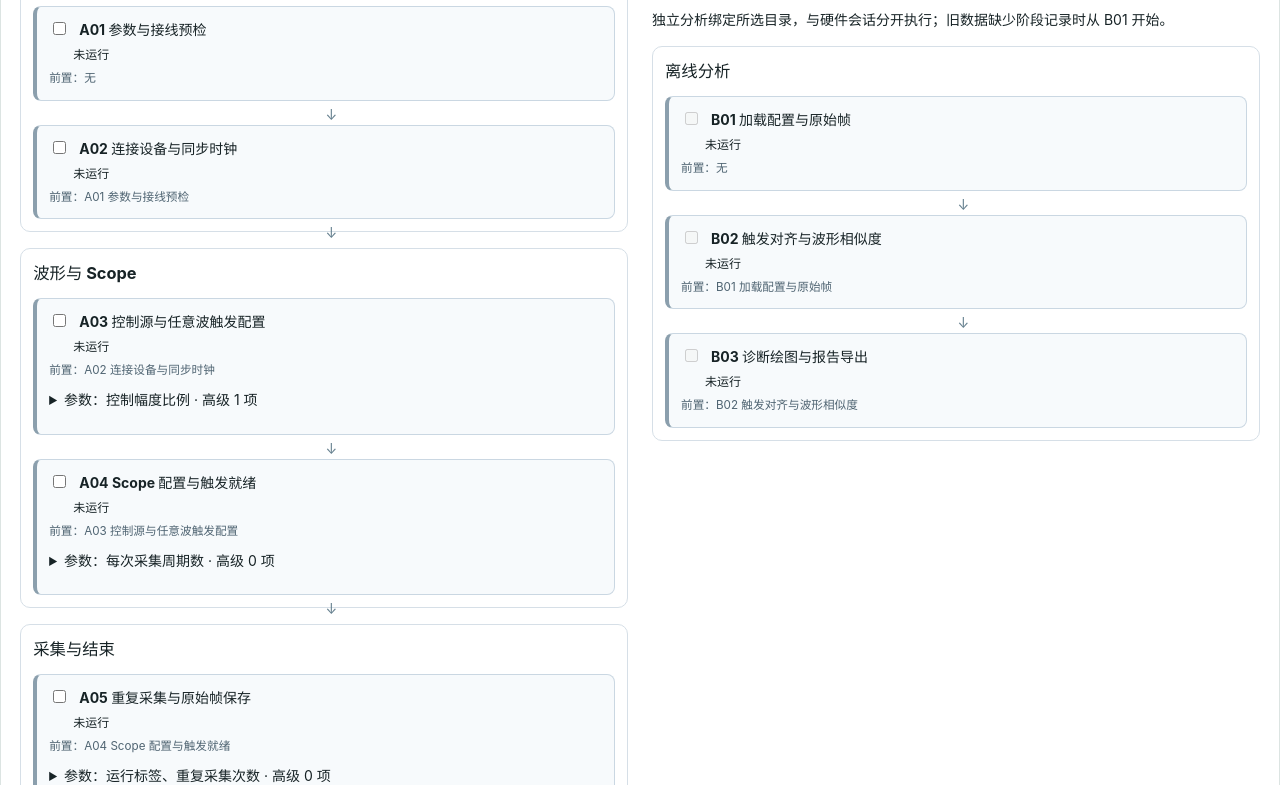
Scenario: 历史分析只用目录状态，保存默认值仍保存下一次实验与布局
The width and height of the screenshot is (1280, 785).
(page scrolled)
Click the heading "参数：控制幅度比例 · 高级 1 项" at (161, 400), box [64,391,258,408]
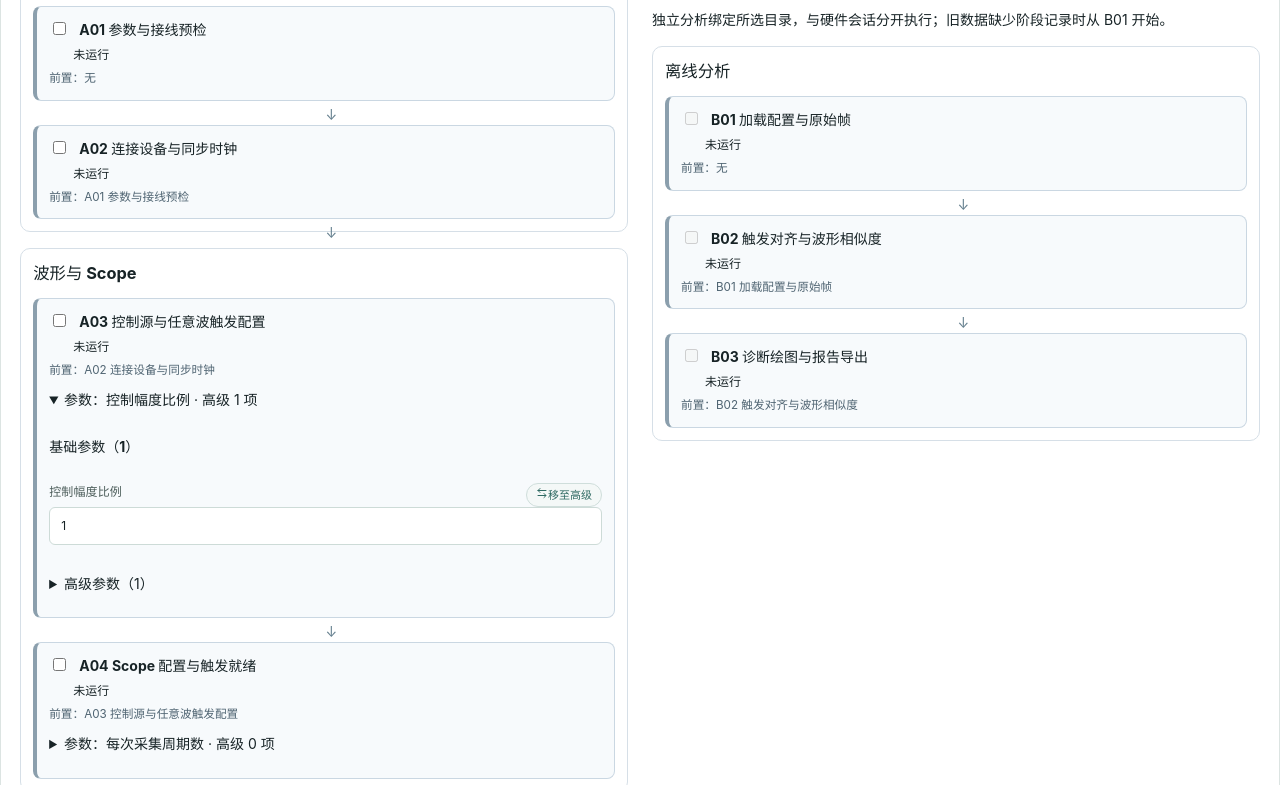
Replace the text in the number field labelled "控制幅度比例" with ".9" at (326, 526), box [49,506,602,544]
(page scrolled)
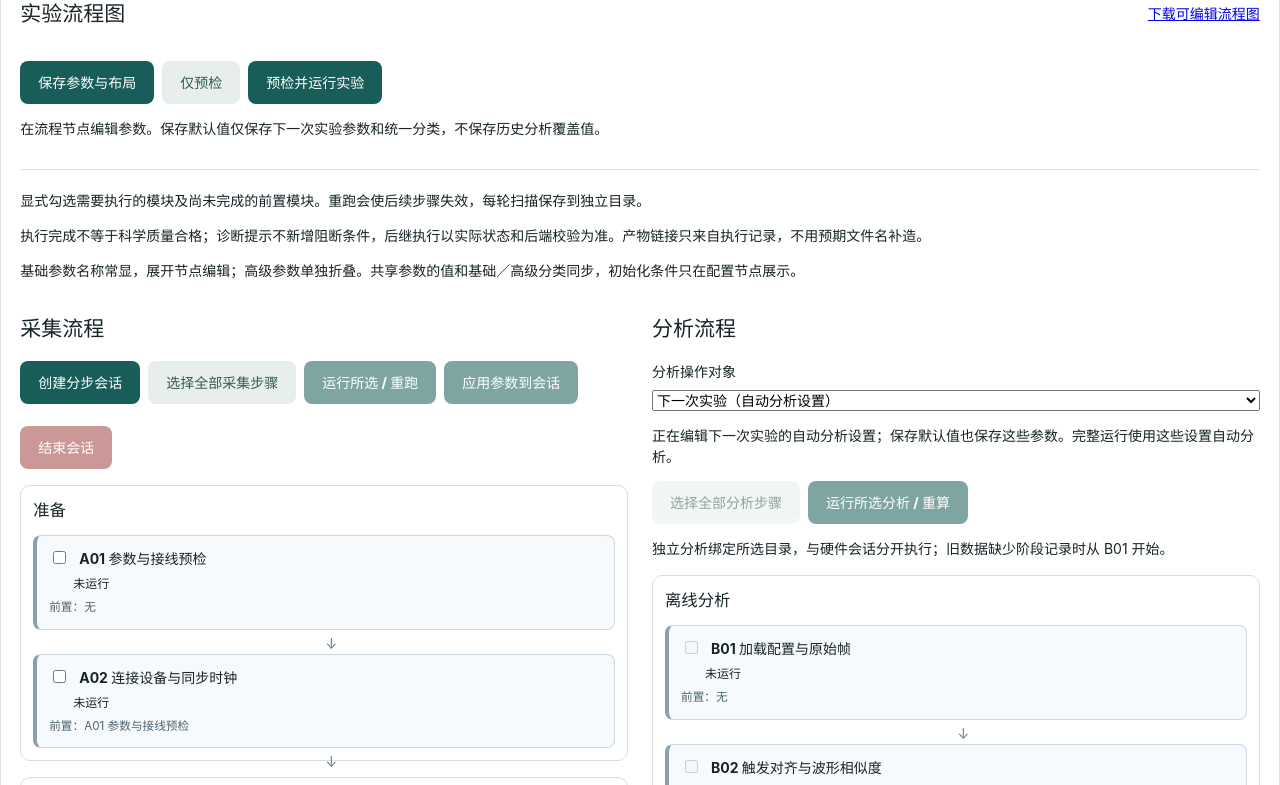
Select "history-one" in the dropdown labelled "分析操作对象" at (956, 401), box [652,390,1260,412]
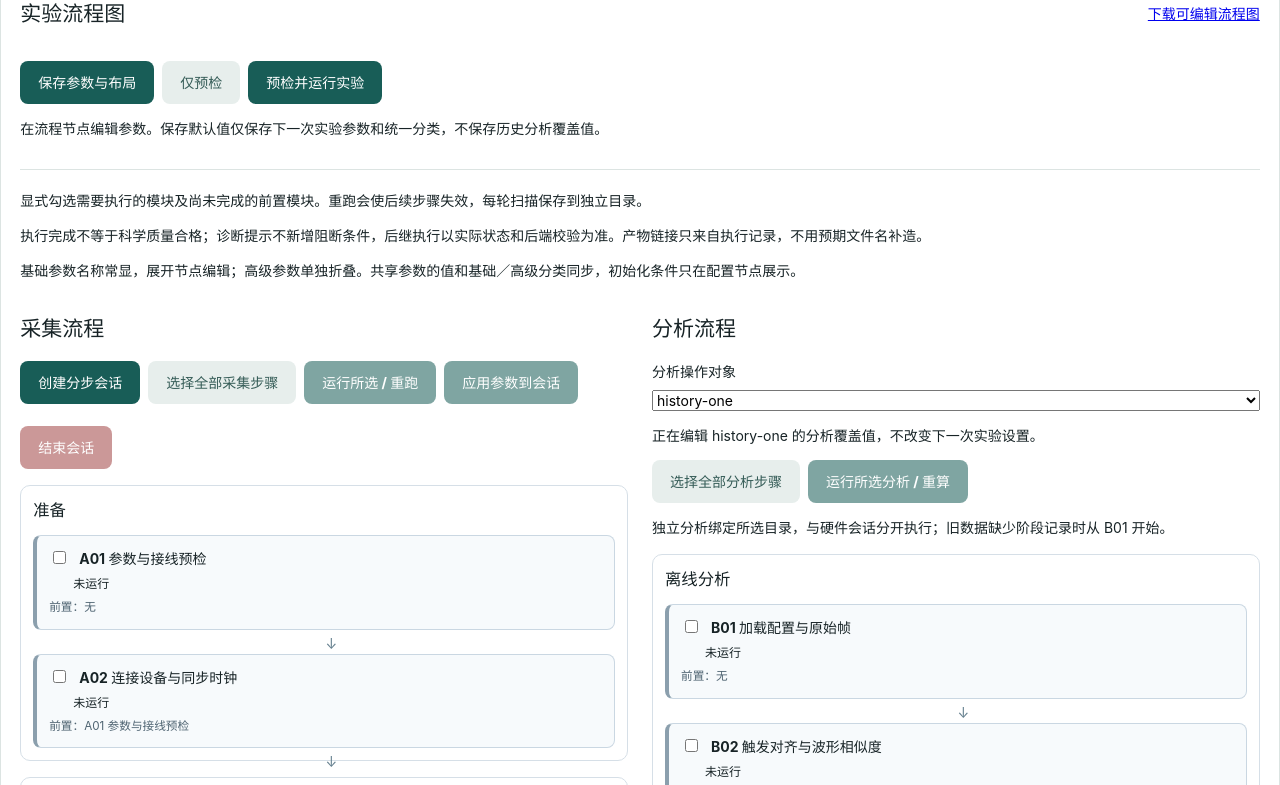
expect the text "正在编辑 history-one 的分析覆盖值，不改变下一次实验设置。" is shown: met, box [652,428,1044,444]
Select "history-two" in the dropdown labelled "分析操作对象" at (956, 401), box [652,390,1260,412]
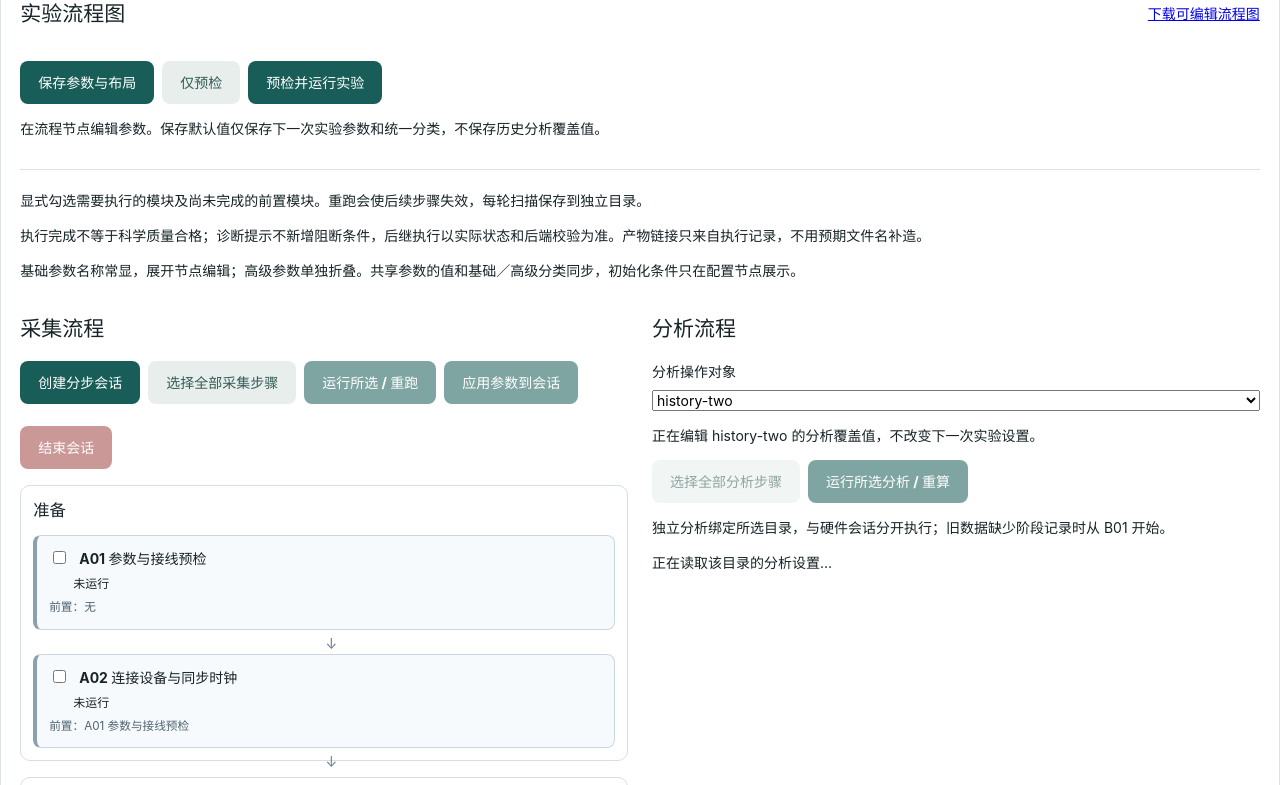
Select "下一次实验（自动分析设置）" in the dropdown labelled "分析操作对象" at (956, 401), box [652,390,1260,412]
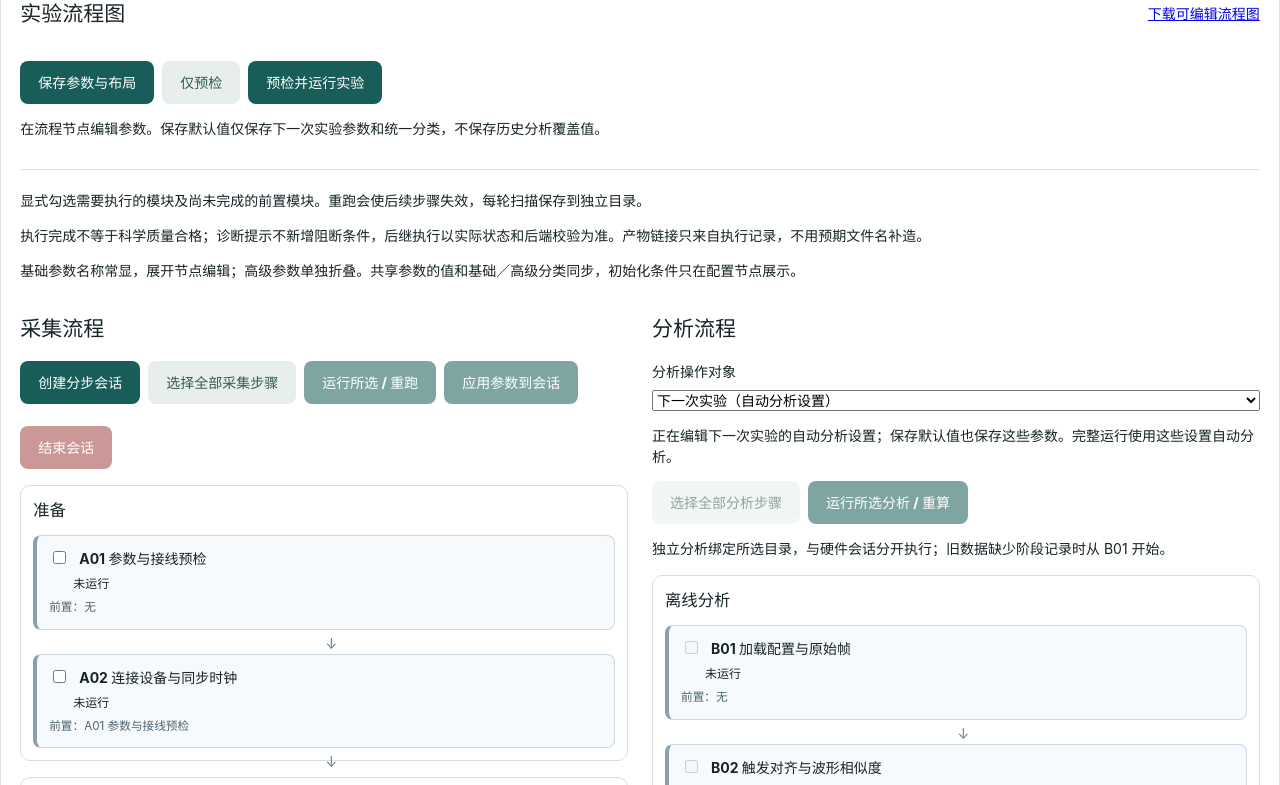
Click the button "保存参数与布局" at (87, 83), box [20,61,154,104]
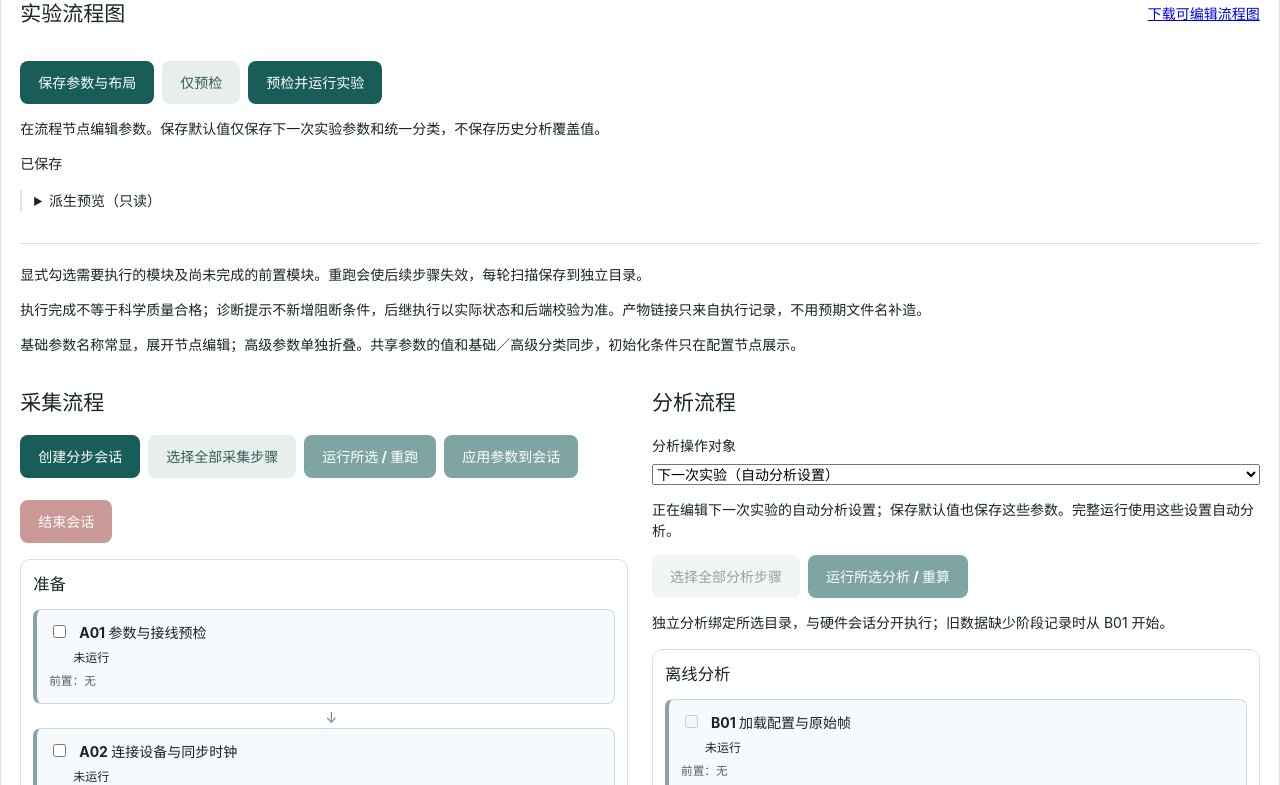
expect the text "已保存" is shown: met, box [20,155,62,172]
